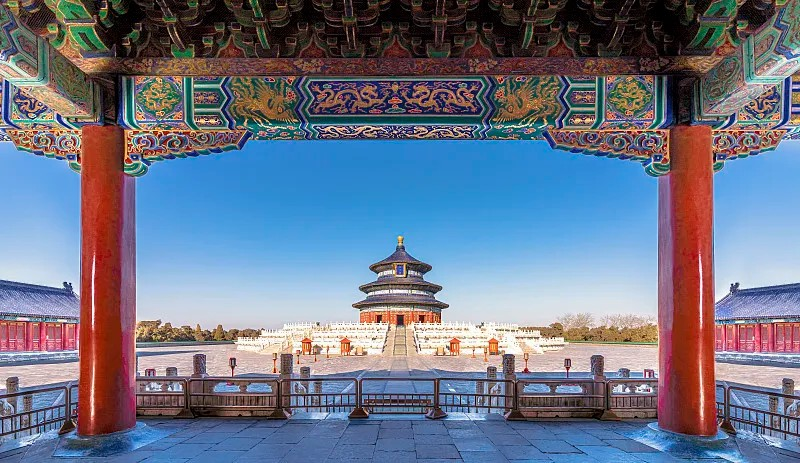Heaven: (351, 233, 450, 327)
